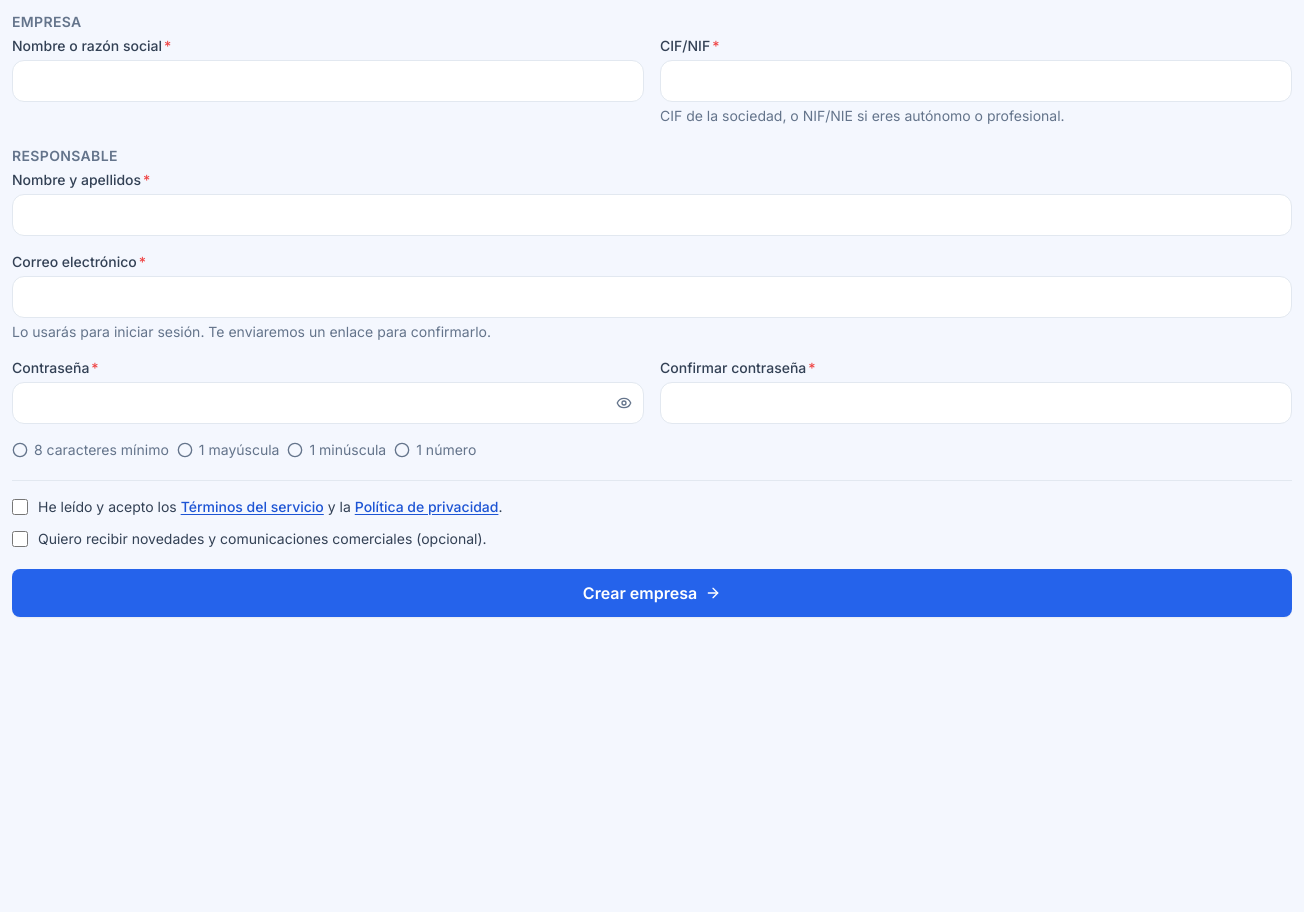
it: <RegisterForm /> › el error de términos desaparece en cuanto se marca la casilla
Click the button "Crear empresa" at (652, 593), box [12,569,1292,617]
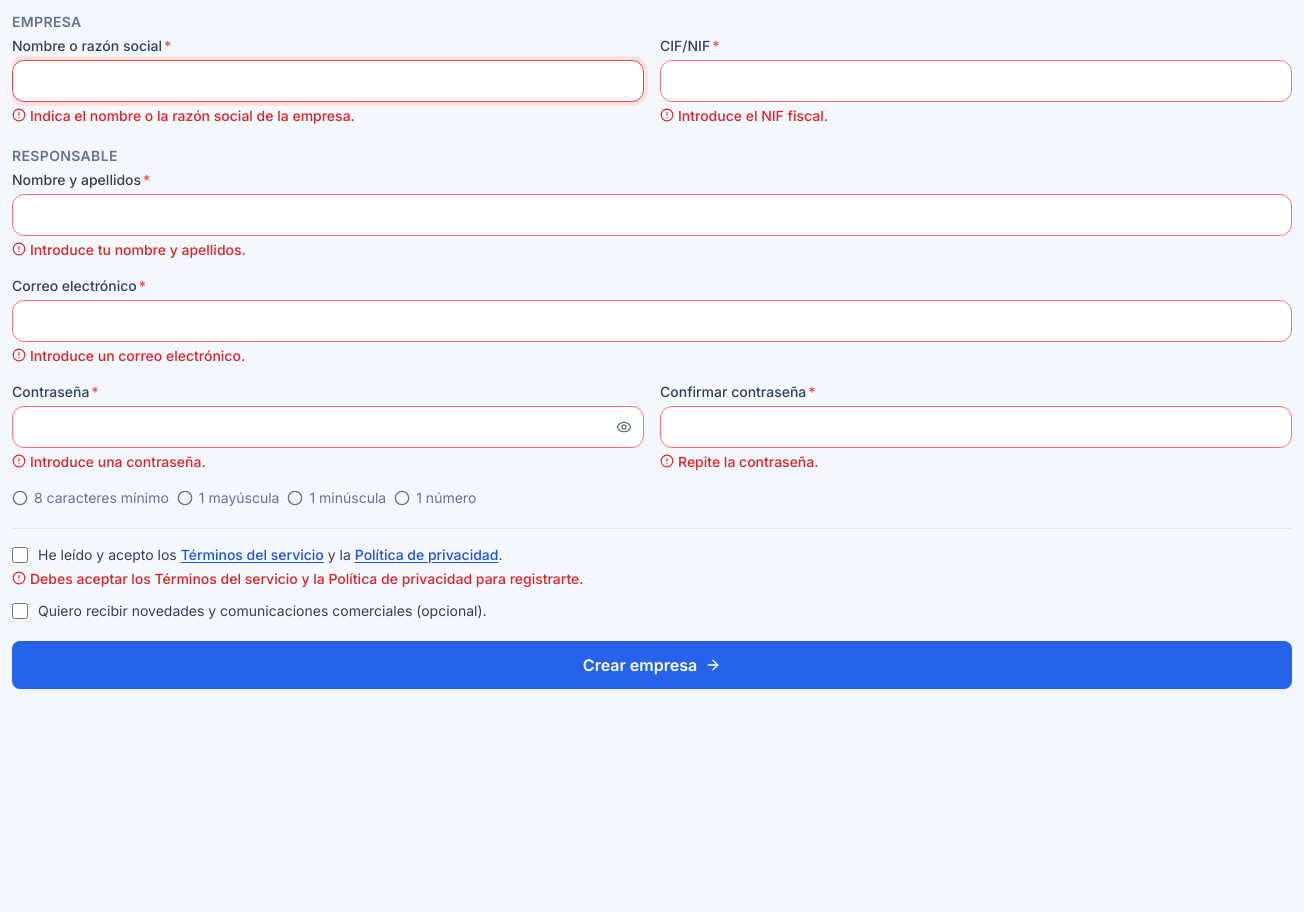
Result: the checkbox labelled "Términos del servicio" is marked as invalid
Click the checkbox labelled "Términos del servicio" at (20, 555), box [12,547,28,563]
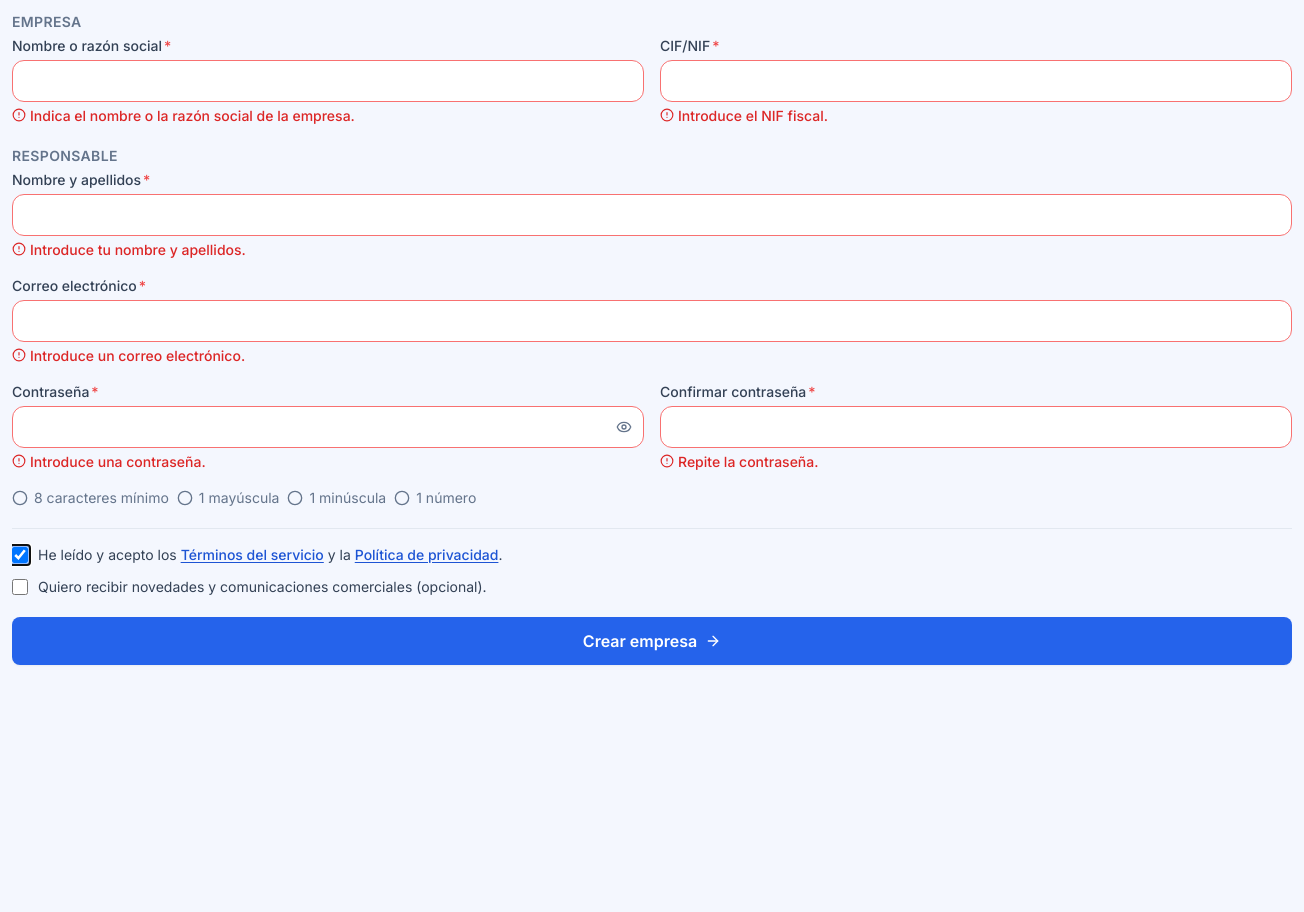
Result: the text "Debes aceptar los Términos" is gone
